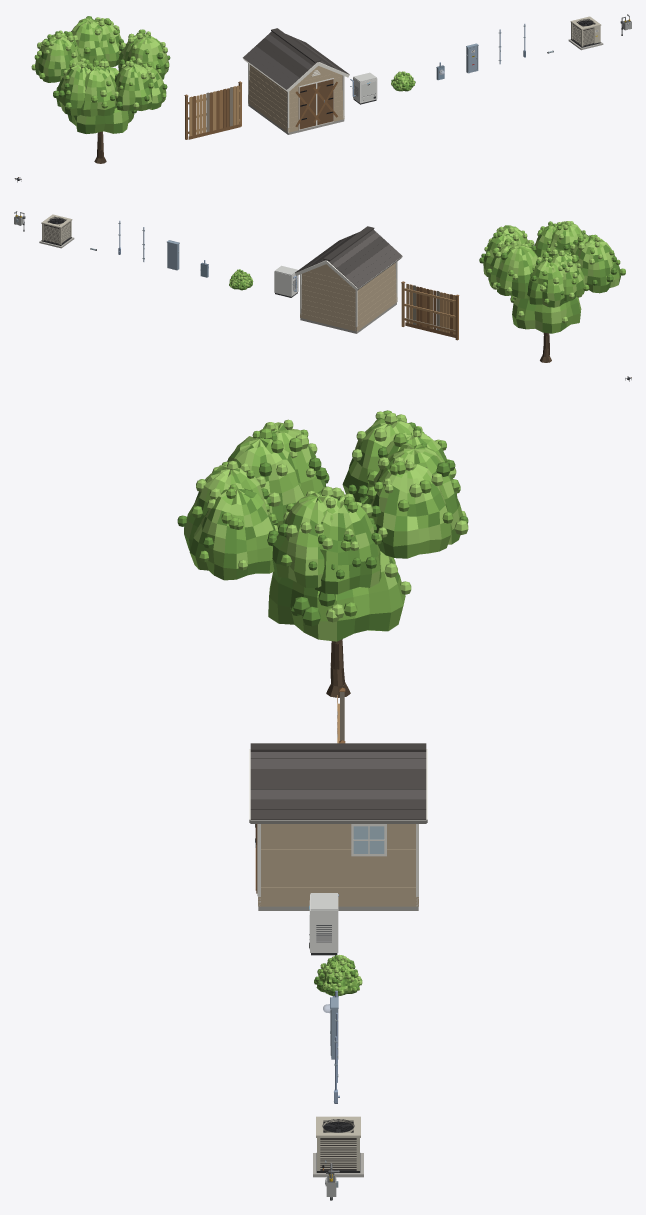
The model's file is base_power_scene_assets.obj.
3 renders of one model, top to bottom at view 1: azimuth 30°, elevation 25°; view 2: azimuth 150°, elevation 25°; view 3: azimuth 270°, elevation 25°, orthographic. The views are drawn at different scales.
Parts seen in each view (by area): view 1: tree, shed, fence_panel, ac_condenser_unit, base_core_battery, bush_small, breaker_panel; view 2: tree, shed, fence_panel, ac_condenser_unit, base_core_battery, bush_small, breaker_panel; view 3: tree, shed, ac_condenser_unit, base_core_battery, bush_small.
Part boxes in pixels (x1=…): tree: x1=31, y1=16, x2=170, y2=163; shed: x1=242, y1=28, x2=349, y2=134; fence_panel: x1=184, y1=81, x2=241, y2=139; ac_condenser_unit: x1=568, y1=16, x2=603, y2=50; base_core_battery: x1=350, y1=72, x2=377, y2=104; bush_small: x1=391, y1=71, x2=415, y2=91; breaker_panel: x1=466, y1=43, x2=478, y2=73; tree: x1=479, y1=221, x2=625, y2=362; shed: x1=295, y1=226, x2=402, y2=333; fence_panel: x1=401, y1=281, x2=459, y2=340; ac_condenser_unit: x1=39, y1=214, x2=74, y2=248; base_core_battery: x1=274, y1=265, x2=298, y2=297; bush_small: x1=229, y1=269, x2=253, y2=290; breaker_panel: x1=167, y1=240, x2=179, y2=270; tree: x1=177, y1=410, x2=468, y2=697; shed: x1=249, y1=743, x2=427, y2=910; ac_condenser_unit: x1=313, y1=1116, x2=363, y2=1177; base_core_battery: x1=309, y1=893, x2=338, y2=955; bush_small: x1=314, y1=955, x2=362, y2=995.
Size of the model in its own units: 27.84 by 5.52 by 5.72.
